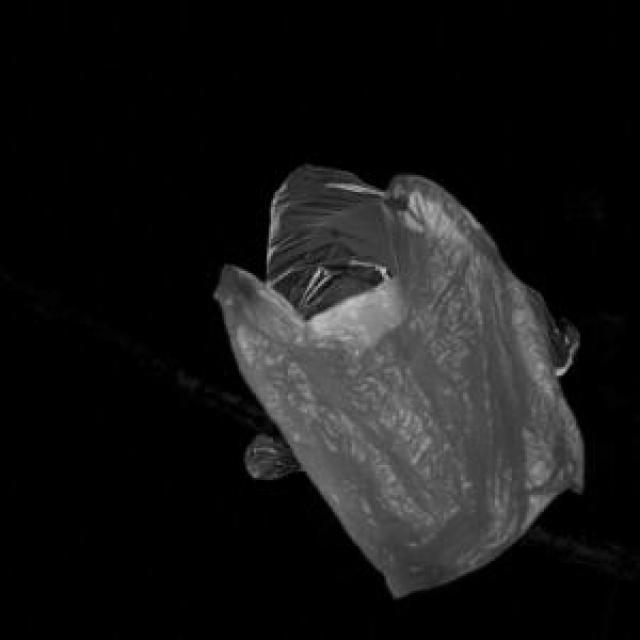miscellaneous trash: (241, 160, 576, 474)
